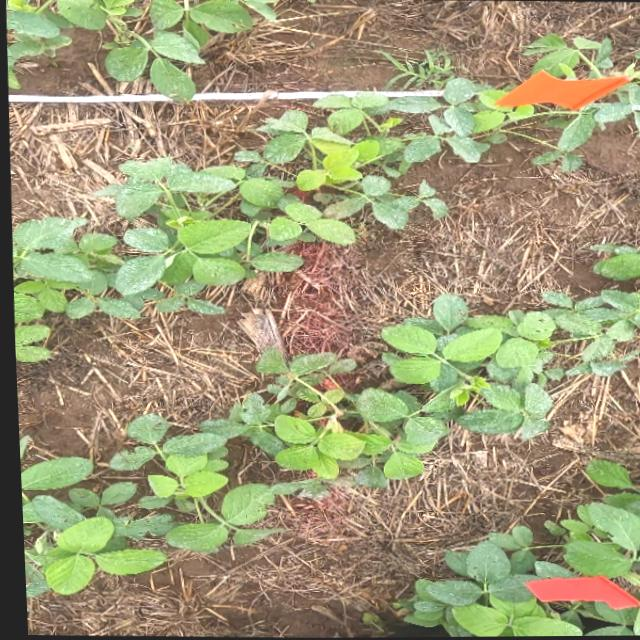grassy_weed: (382, 48, 454, 89)
soy_plant: (16, 290, 640, 593), (10, 94, 438, 360), (416, 461, 640, 632), (394, 506, 640, 638), (6, 0, 275, 100), (428, 49, 640, 171), (524, 33, 612, 80), (369, 180, 446, 228)
